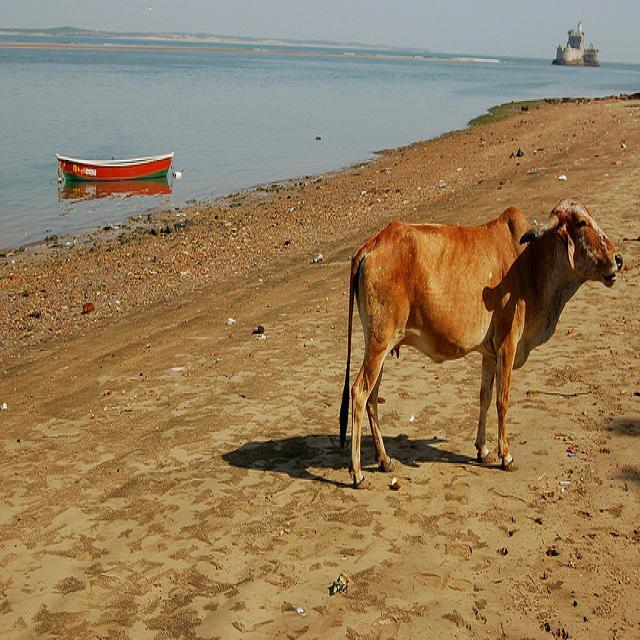cow: (336, 194, 623, 489)
